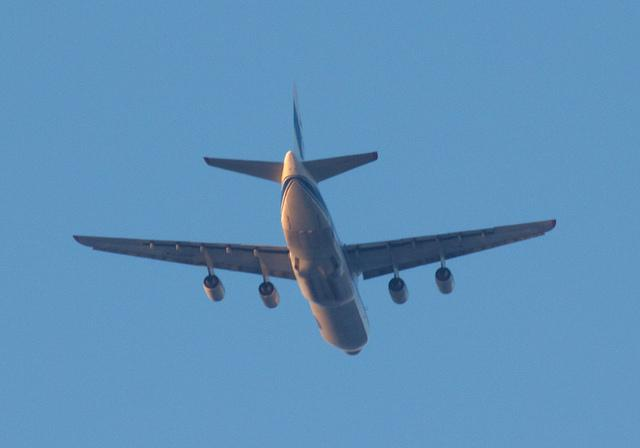airplane: (61, 82, 559, 358)
